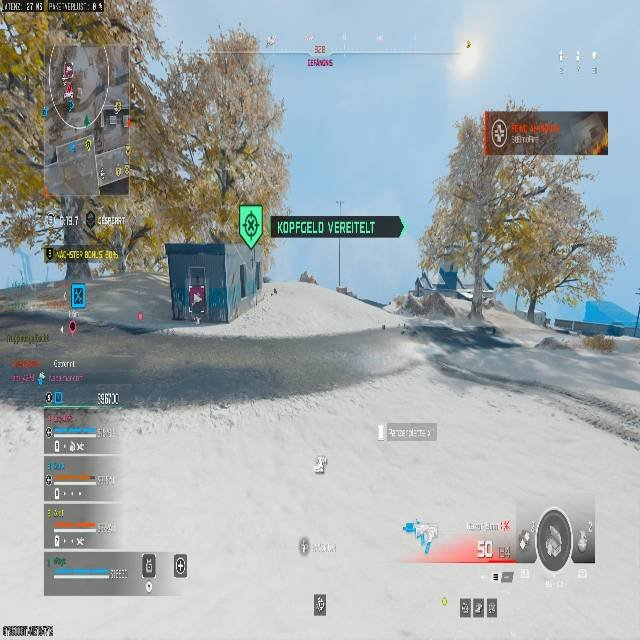player: (298, 269, 318, 284)
